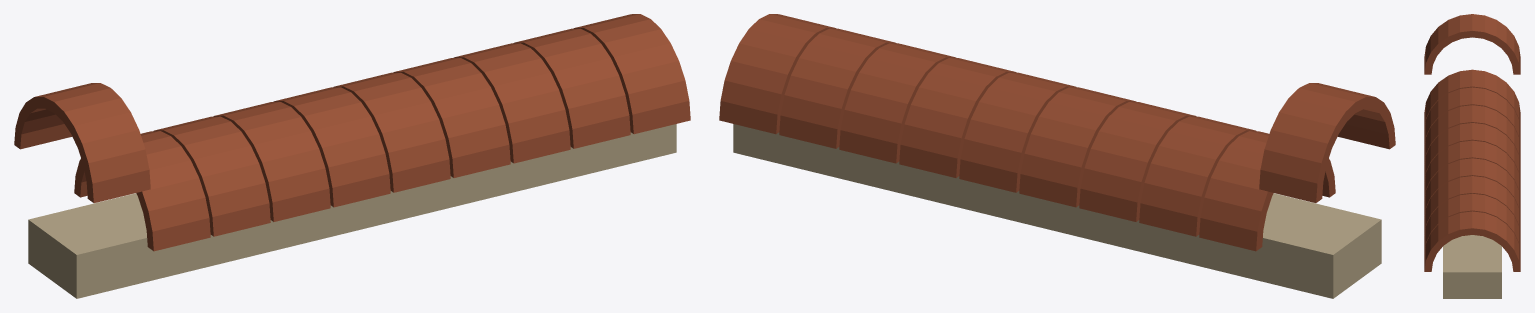
Rendered from source-edit.glb.
3 renders of one model, left to right at view 1: azimuth 30°, elevation 25°; view 2: azimuth 150°, elevation 25°; view 3: azimuth 270°, elevation 25°, orthographic. The views are drawn at different scales.
Parts seen in each view (by area): view 1: RIDGE_Base, RIDGE_Cap_0, RIDGE_Cap_4, RIDGE_Cap_7, RIDGE_Cap_2, RIDGE_Cap_8, RIDGE_Cap_9, RIDGE_Cap_5, RIDGE_Cap_6, RIDGE_Cap_3, RIDGE_Cap_1; view 2: RIDGE_Base, RIDGE_Cap_0, RIDGE_Cap_4, RIDGE_Cap_7, RIDGE_Cap_2, RIDGE_Cap_8, RIDGE_Cap_9, RIDGE_Cap_5, RIDGE_Cap_6, RIDGE_Cap_3, RIDGE_Cap_1; view 3: RIDGE_Base, RIDGE_Cap_0, RIDGE_Cap_9, RIDGE_Cap_3, RIDGE_Cap_6, RIDGE_Cap_1, RIDGE_Cap_2, RIDGE_Cap_5, RIDGE_Cap_8, RIDGE_Cap_4, RIDGE_Cap_7.
Boxes of the visible parts, x1=… form: RIDGE_Base: x1=28, y1=124, x2=676, y2=298; RIDGE_Cap_0: x1=14, y1=83, x2=150, y2=202; RIDGE_Cap_4: x1=273, y1=87, x2=390, y2=207; RIDGE_Cap_7: x1=453, y1=43, x2=570, y2=163; RIDGE_Cap_2: x1=153, y1=116, x2=270, y2=236; RIDGE_Cap_8: x1=513, y1=28, x2=630, y2=148; RIDGE_Cap_9: x1=573, y1=14, x2=690, y2=134; RIDGE_Cap_5: x1=333, y1=72, x2=450, y2=192; RIDGE_Cap_6: x1=393, y1=58, x2=510, y2=177; RIDGE_Cap_3: x1=213, y1=102, x2=330, y2=221; RIDGE_Cap_1: x1=74, y1=131, x2=210, y2=251; RIDGE_Base: x1=733, y1=124, x2=1381, y2=298; RIDGE_Cap_0: x1=1259, y1=83, x2=1395, y2=202; RIDGE_Cap_4: x1=1019, y1=87, x2=1136, y2=207; RIDGE_Cap_7: x1=839, y1=43, x2=956, y2=163; RIDGE_Cap_2: x1=1139, y1=116, x2=1256, y2=236; RIDGE_Cap_8: x1=779, y1=28, x2=896, y2=148; RIDGE_Cap_9: x1=719, y1=14, x2=836, y2=134; RIDGE_Cap_5: x1=959, y1=72, x2=1076, y2=192; RIDGE_Cap_6: x1=899, y1=58, x2=1016, y2=177; RIDGE_Cap_3: x1=1079, y1=102, x2=1196, y2=221; RIDGE_Cap_1: x1=1199, y1=131, x2=1335, y2=251; RIDGE_Base: x1=1443, y1=235, x2=1501, y2=298; RIDGE_Cap_0: x1=1424, y1=14, x2=1520, y2=74; RIDGE_Cap_9: x1=1424, y1=211, x2=1520, y2=271; RIDGE_Cap_3: x1=1424, y1=105, x2=1520, y2=164; RIDGE_Cap_6: x1=1424, y1=158, x2=1520, y2=217; RIDGE_Cap_1: x1=1424, y1=69, x2=1520, y2=129; RIDGE_Cap_2: x1=1424, y1=87, x2=1520, y2=146; RIDGE_Cap_5: x1=1424, y1=140, x2=1520, y2=200; RIDGE_Cap_8: x1=1424, y1=193, x2=1520, y2=253; RIDGE_Cap_4: x1=1424, y1=123, x2=1520, y2=182; RIDGE_Cap_7: x1=1424, y1=176, x2=1520, y2=235.
Bounding box in the file's own units: 2 × 0.57 × 0.46.
